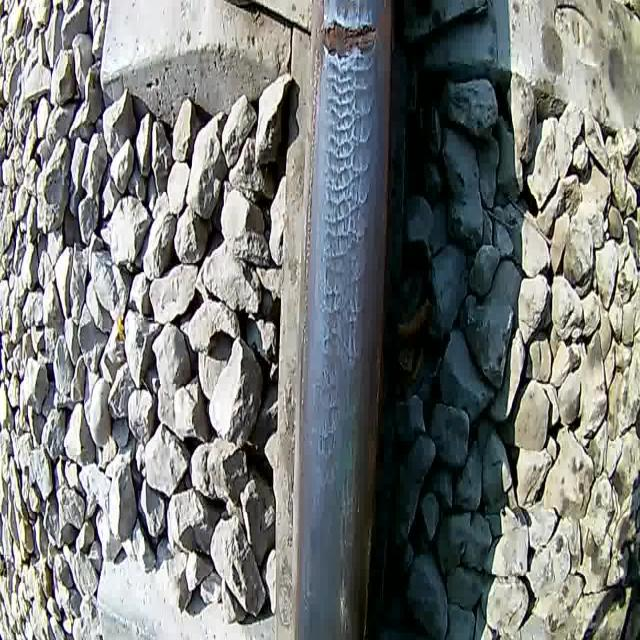Cracks: (333, 460, 356, 640)
Spallings: (318, 13, 387, 65)
Squats: (315, 59, 378, 468), (325, 0, 387, 27)
